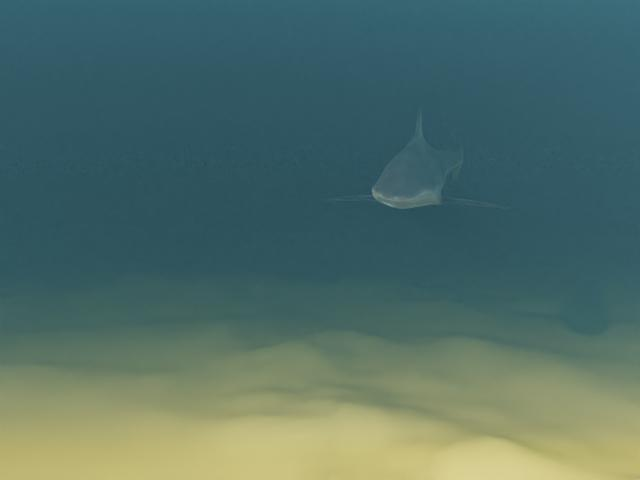Carribean Shark.001: (324, 106, 512, 209)
